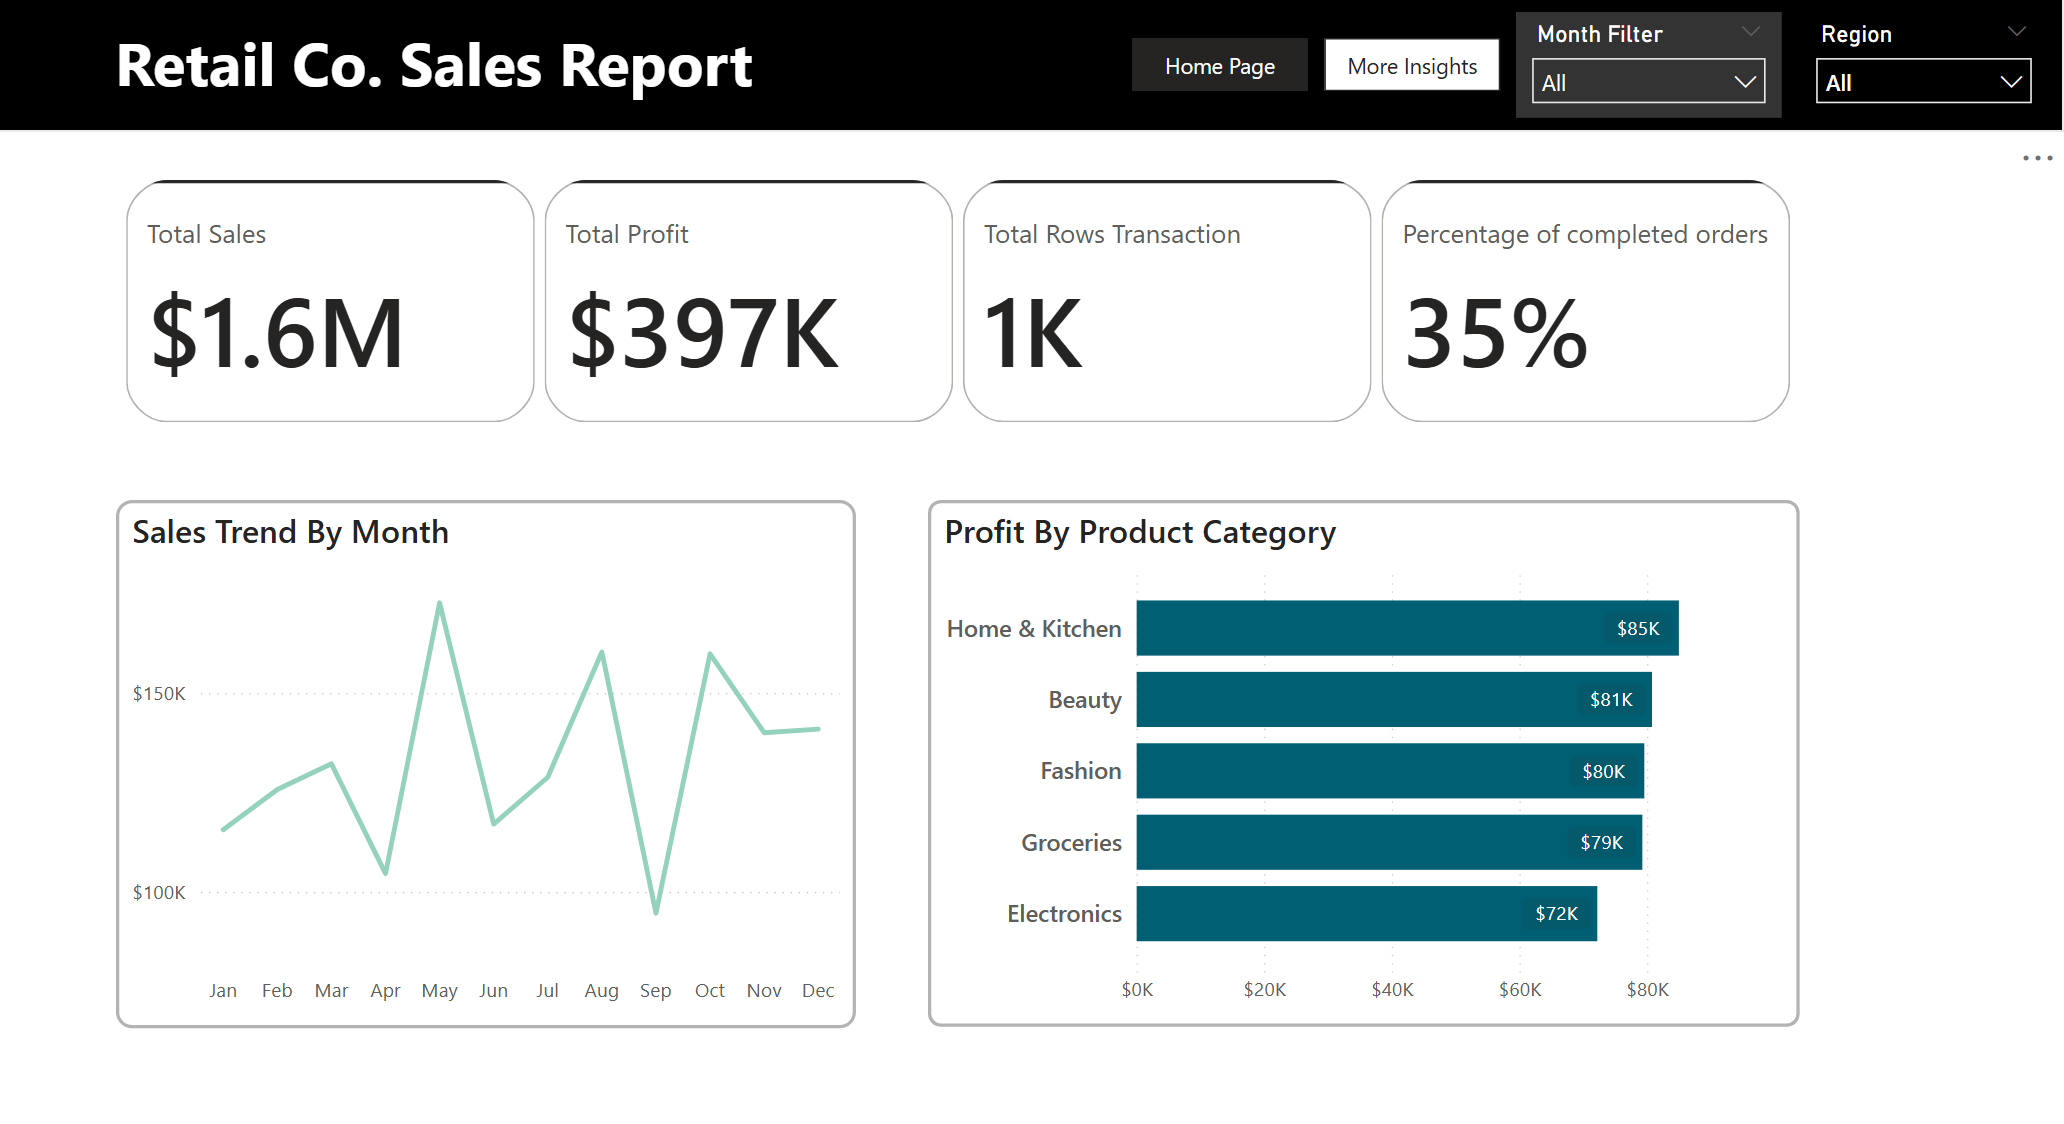

The page's visual inventory and layout, read from the dashboard file:
{"tool":"powerbi","page":{"name":"Home Page","canvas":[1280,720],"ordinal":0},"visuals":[{"type":"shape","box":[0,19.8,1280,82.9],"z":0},{"type":"cardVisual","fields":{"Data":["_Measures.Total Sales","_Measures.Total Profit","_Measures.Total Rows Transaction","_Measures.Percentage of completed orders"]},"box":[75.5,127.5,1041.1,160.9],"z":1000},{"type":"lineChart","title":"Sales Trend By Month","fields":{"Category":["Date Table.Month Name"],"Y":["Sum(Sales.Sales Amount)"]},"box":[74.3,330.5,458,326.8],"z":2000},{"type":"barChart","title":"Profit By Product Category","fields":{"Y":["Sum(Sales.Profit)"],"Category":["Sales.Product Category"]},"box":[576.9,330.5,539.7,326],"z":3000},{"type":"slicer","fields":{"Values":["Sales.Region"]},"box":[1116.6,28.5,153.5,65.6],"z":4000},{"type":"slicer","fields":{"Values":["Date Table.Month Name"]},"box":[940.8,28.5,164.6,65.6],"z":5000},{"type":"pageNavigator","box":[703.1,44.6,229,33.4],"z":6000},{"type":"textbox","box":[39.6,28.5,463,65.6],"z":7000}]}

Visuals, with their boxes on the page's 1280x720 design canvas (x1, y1, x2, y2). These are canvas units, not pixel positions in the 2064x1124 screenshot, which may show the page scaled, cropped or inside an application window:
shape: rect(0, 20, 1280, 103)
cardVisual - _Measures.Total Sales x _Measures.Total Profit: rect(76, 128, 1117, 288)
"Sales Trend By Month" lineChart: rect(74, 330, 532, 657)
"Profit By Product Category" barChart: rect(577, 330, 1117, 656)
slicer - Sales.Region: rect(1117, 28, 1270, 94)
slicer - Date Table.Month Name: rect(941, 28, 1105, 94)
pageNavigator: rect(703, 45, 932, 78)
textbox: rect(40, 28, 503, 94)
